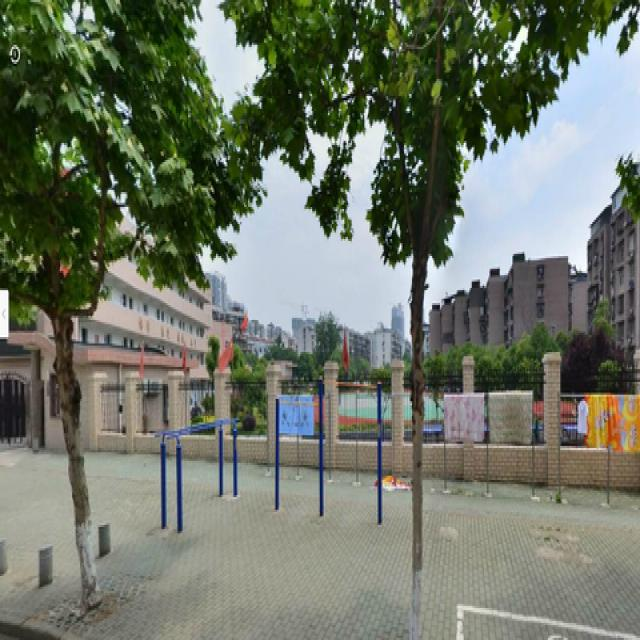meta: (288, 11, 524, 600), (4, 21, 181, 608)
